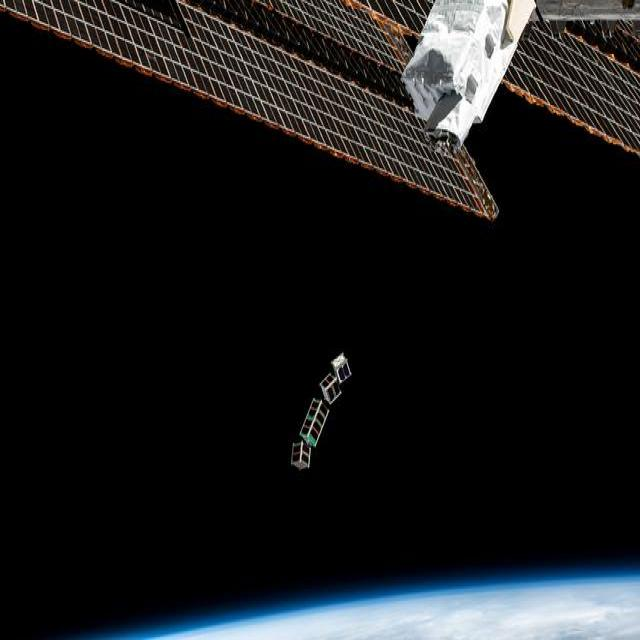medium_debris: (0, 0, 634, 258), (291, 398, 329, 469), (320, 353, 351, 405)
